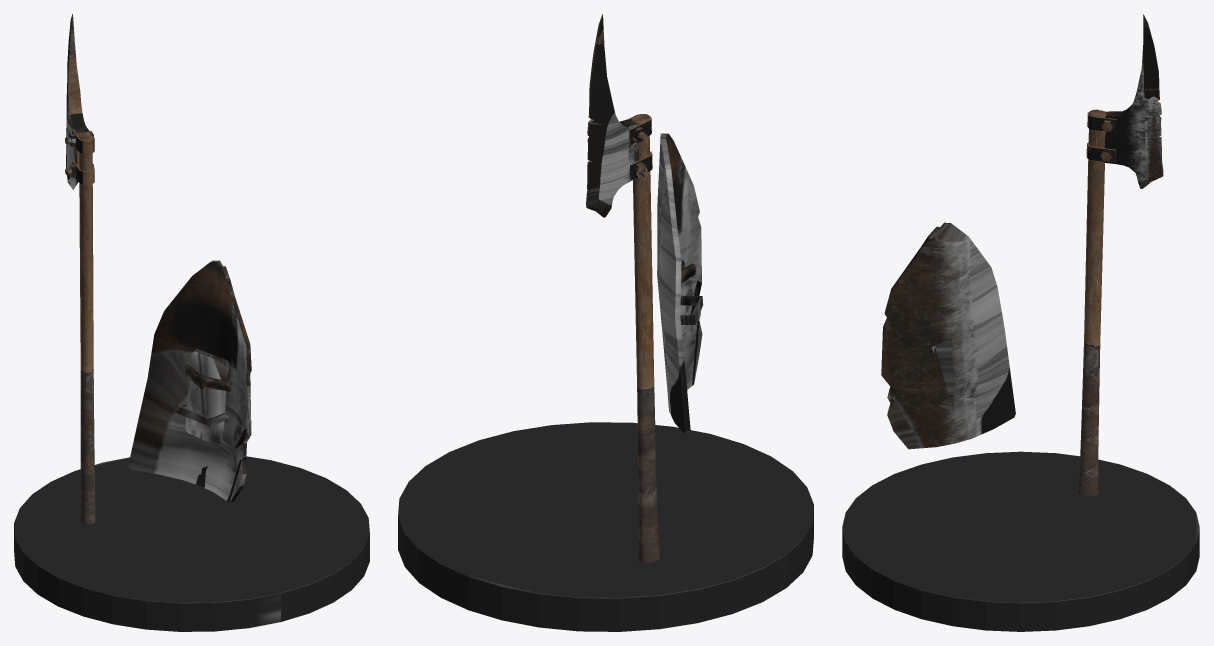
3 renders of one model, left to right at view 1: azimuth 30°, elevation 25°; view 2: azimuth 150°, elevation 25°; view 3: azimuth 270°, elevation 25°, orthographic. The views are drawn at different scales.
Parts seen in each view (by area): view 1: mesh0.smd; view 2: mesh0.smd; view 3: mesh0.smd.
Part boxes in pixels (x1,y1,x2,y2): mesh0.smd: (14,14,369,631); mesh0.smd: (398,14,813,631); mesh0.smd: (842,14,1199,631).
Size of the model in its own units: 1 by 1.59 by 1.
1 material, 1 textured.
